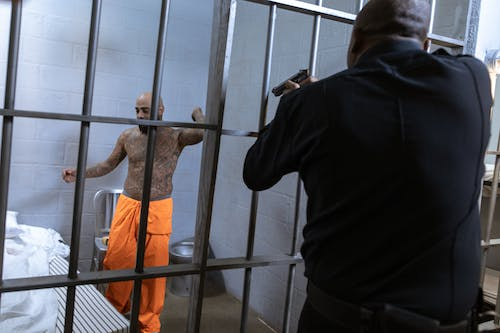gun: (270, 68, 310, 98)
